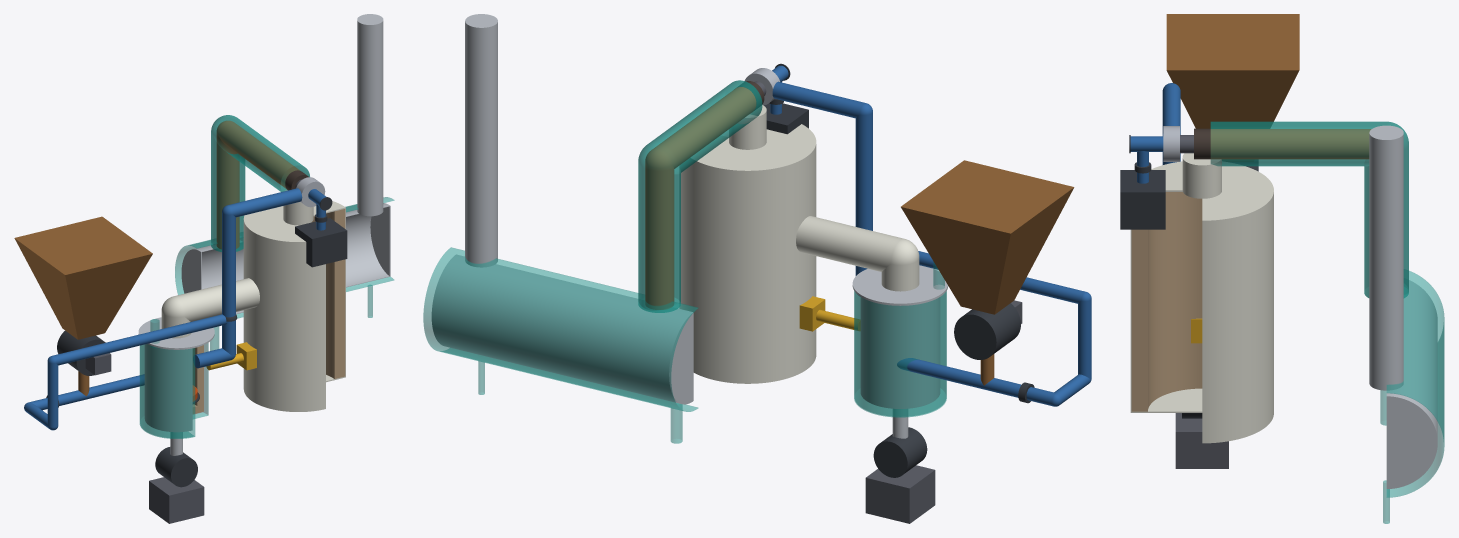
File: thor.glb
3 views of the same model, side by side, from view 1: azimuth 30°, elevation 25°; view 2: azimuth 150°, elevation 25°; view 3: azimuth 270°, elevation 25° (orthographic). The views are drawn at different scales.
Parts seen in each view (by area): view 1: Nachbrennkammer, Bunker_Hackschnitzel, Abgasrohr_Kuehlmantel, Kamin, Wassermantel_Brennkammer, Schalldaempfer_WT_3_Kammern, Zapfluft_Foerderleitung, Keg_50l, Abgasrohr_innen, Ladeluft_Sekundaerluft, NBK_Ausmauerung, Heissgas_Keg_NBK_isoliert (+10 smaller); view 2: Nachbrennkammer, Schalldaempfer_Kuehlmantel, Schalldaempfer_WT_3_Kammern, Bunker_Hackschnitzel, Abgasrohr_Kuehlmantel, Wassermantel_Brennkammer, Kamin, Keg_50l, Abgasrohr_innen, Heissgas_Keg_NBK_isoliert, Zapfluft_Foerderleitung, Ladeluft_Sekundaerluft (+6 smaller); view 3: Nachbrennkammer, Bunker_Hackschnitzel, NBK_Ausmauerung, Abgasrohr_Kuehlmantel, Kamin, Schalldaempfer_WT_3_Kammern, Schalldaempfer_Kuehlmantel, Abgasrohr_innen, Anfahrgeblaese, Aschebehaelter, Heissgas_NBK_Turbine_isoliert, Ladeluft_Sekundaerluft (+3 smaller).
Part boxes in pixels (<box>): Nachbrennkammer: <box>243,201,345,411</box>; Bunker_Hackschnitzel: <box>14,216,152,339</box>; Abgasrohr_Kuehlmantel: <box>211,115,309,251</box>; Kamin: <box>357,14,383,216</box>; Wassermantel_Brennkammer: <box>139,343,208,438</box>; Schalldaempfer_WT_3_Kammern: <box>181,203,390,314</box>; Zapfluft_Foerderleitung: <box>24,314,227,430</box>; Keg_50l: <box>144,344,204,432</box>; Abgasrohr_innen: <box>216,120,299,249</box>; Ladeluft_Sekundaerluft: <box>193,188,302,368</box>; NBK_Ausmauerung: <box>311,209,345,378</box>; Heissgas_Keg_NBK_isoliert: <box>161,278,259,338</box>; Nachbrennkammer: <box>679,124,816,383</box>; Schalldaempfer_Kuehlmantel: <box>423,247,698,411</box>; Schalldaempfer_WT_3_Kammern: <box>431,254,693,404</box>; Bunker_Hackschnitzel: <box>901,160,1074,314</box>; Abgasrohr_Kuehlmantel: <box>638,80,762,312</box>; Wassermantel_Brennkammer: <box>854,291,946,417</box>; Kamin: <box>465,14,497,267</box>; Keg_50l: <box>860,297,940,408</box>; Abgasrohr_innen: <box>645,87,756,309</box>; Heissgas_Keg_NBK_isoliert: <box>796,216,919,291</box>; Zapfluft_Foerderleitung: <box>897,251,1091,406</box>; Ladeluft_Sekundaerluft: <box>772,81,872,275</box>; Nachbrennkammer: <box>1130,161,1273,443</box>; Bunker_Hackschnitzel: <box>1166,14,1299,161</box>; NBK_Ausmauerung: <box>1131,192,1202,411</box>; Abgasrohr_Kuehlmantel: <box>1210,121,1408,297</box>; Kamin: <box>1369,125,1403,390</box>; Schalldaempfer_WT_3_Kammern: <box>1386,280,1437,488</box>; Schalldaempfer_Kuehlmantel: <box>1386,271,1444,497</box>; Abgasrohr_innen: <box>1210,129,1371,159</box>; Anfahrgeblaese: <box>1120,170,1165,229</box>; Aschebehaelter: <box>1175,413,1228,468</box>; Heissgas_NBK_Turbine_isoliert: <box>1182,153,1221,198</box>; Ladeluft_Sekundaerluft: <box>1162,83,1180,164</box>.
Bounding box in the file's own units: 3165 × 2660 × 1583.
